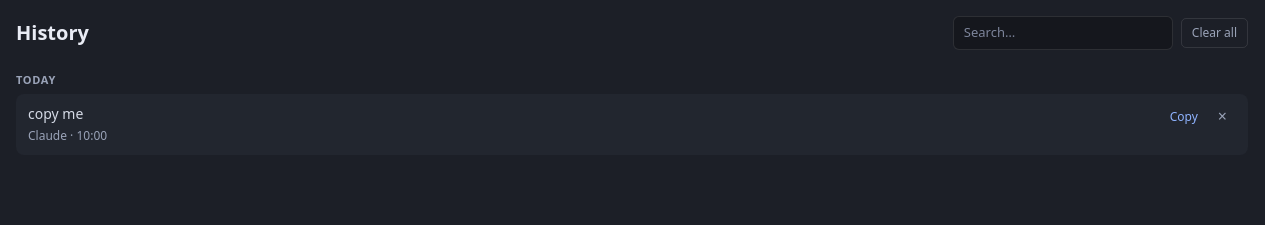
Test: HistoryPage › keeps a card's Copied state when a new entry is pushed into the same day
Step 1. Click the button "Copy" → coordinates (1184, 116), box [1161, 105, 1207, 128]
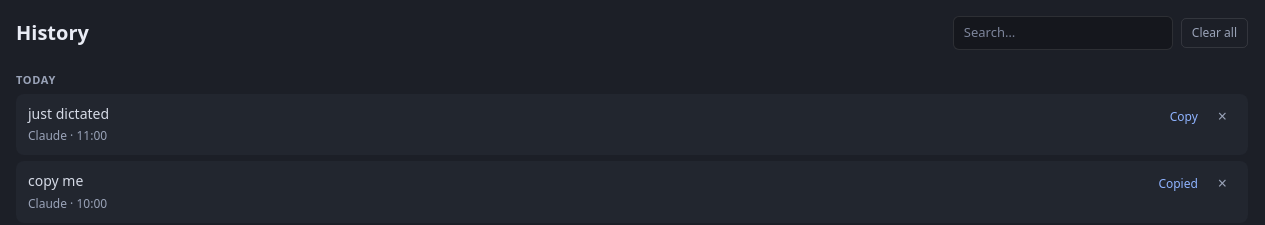
expect the text "just dictated" is shown: met, box [28, 104, 109, 123]
expect the button "Copied" is shown: met, box [1149, 172, 1207, 196]
expect the number of buttons "Copy" is 1: met, box [1161, 105, 1207, 128]
